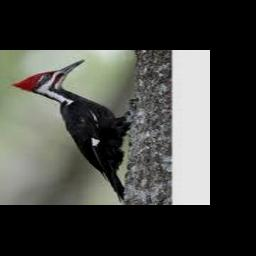Woodpecker: (10, 59, 132, 202)
